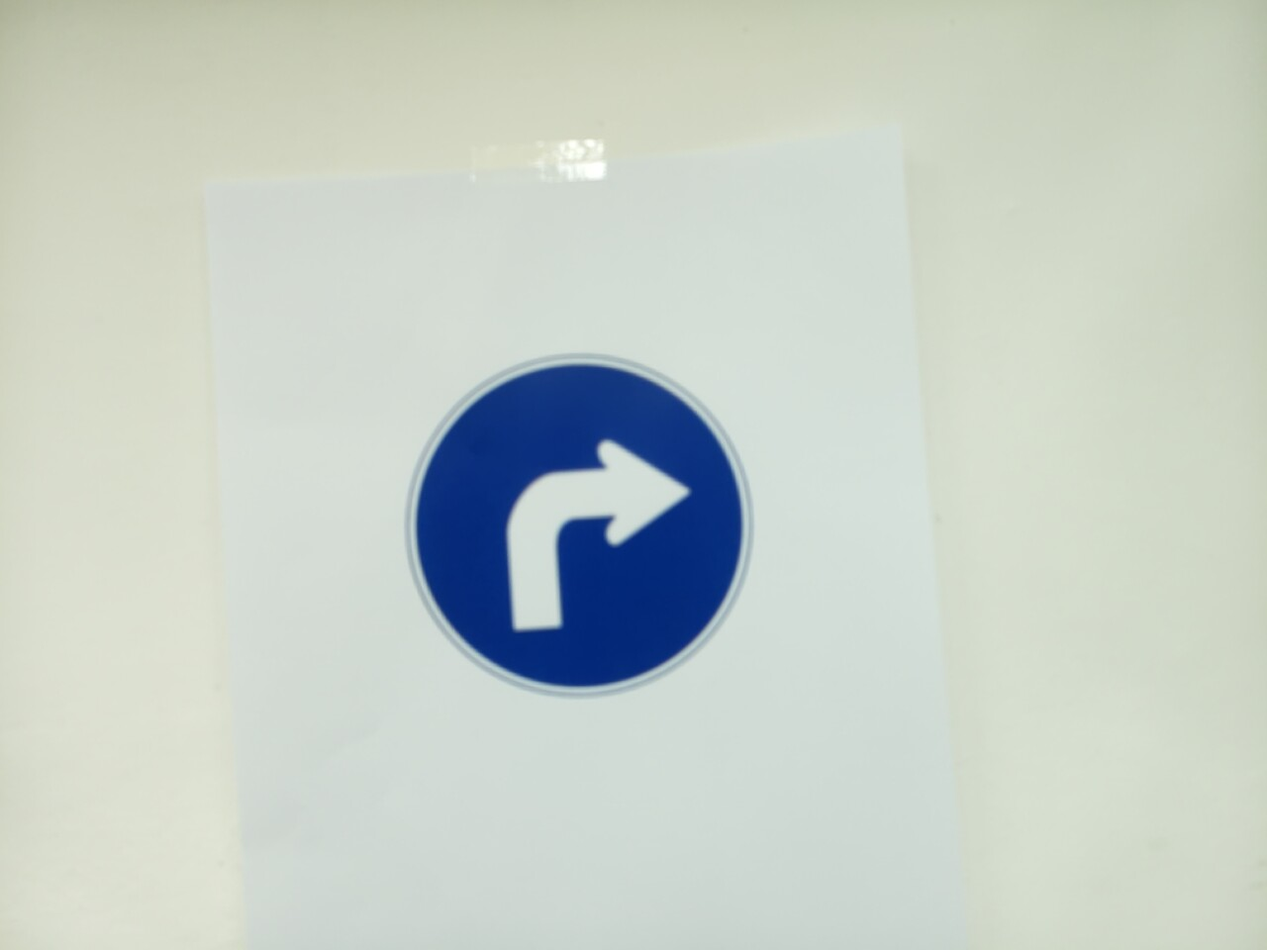right_turn: (406, 354, 752, 697)
